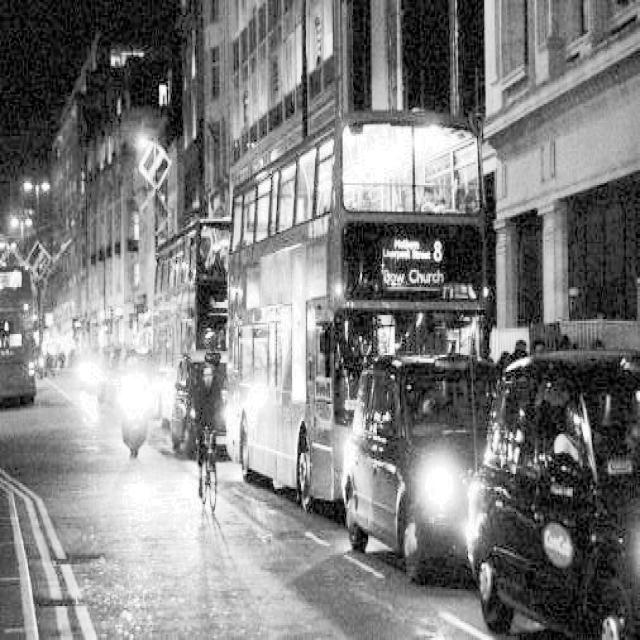Bicycle: (192, 429, 228, 523)
Bus: (221, 99, 501, 516), (152, 205, 240, 383), (0, 257, 43, 406)
Car: (446, 330, 640, 640), (332, 346, 506, 576)
